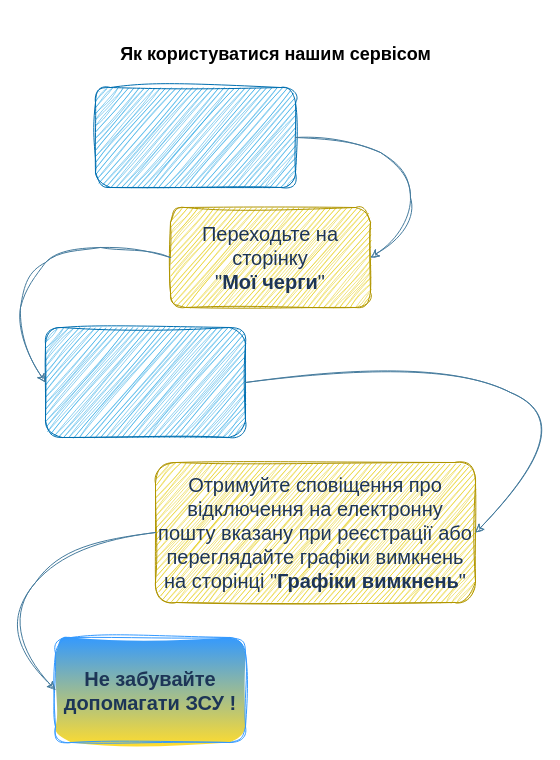
This 560x760 diagram has some shape labels left out. Each missing label, with the box of its shape:
Підписуйтесь на оновлення ваших черг відключення та вказуйте тег: (44, 326, 246, 438)
Реєструйтесь або авторизуйтесь з допомогою Gmail: (94, 86, 296, 188)
